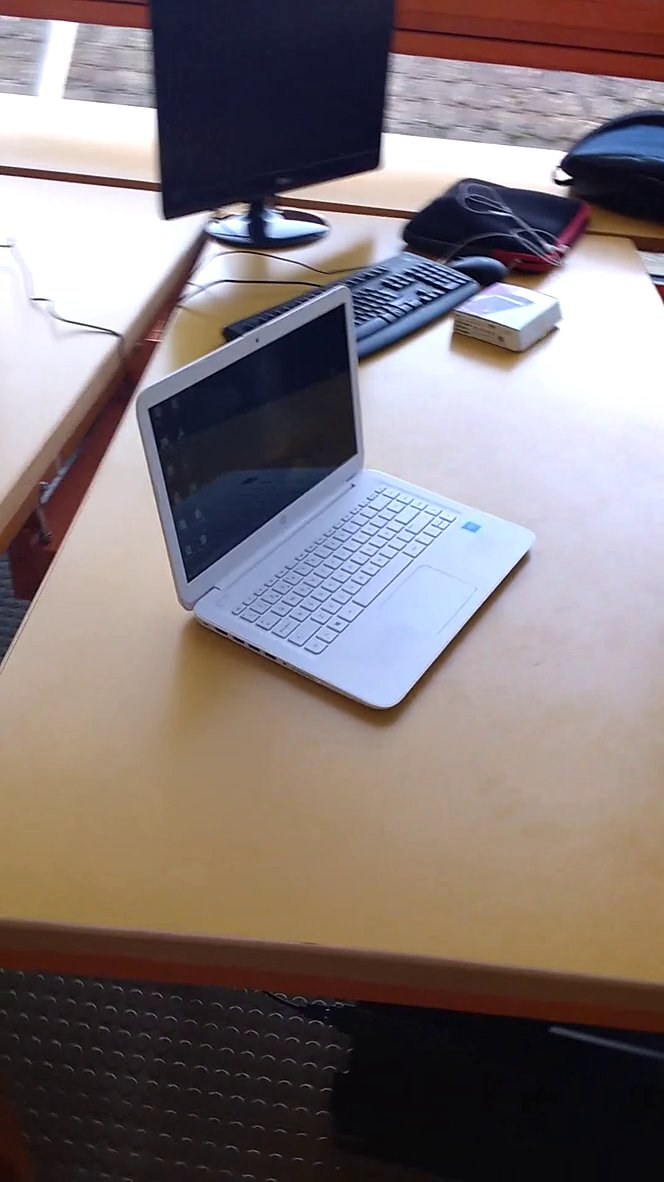laptop: (131, 276, 546, 726)
